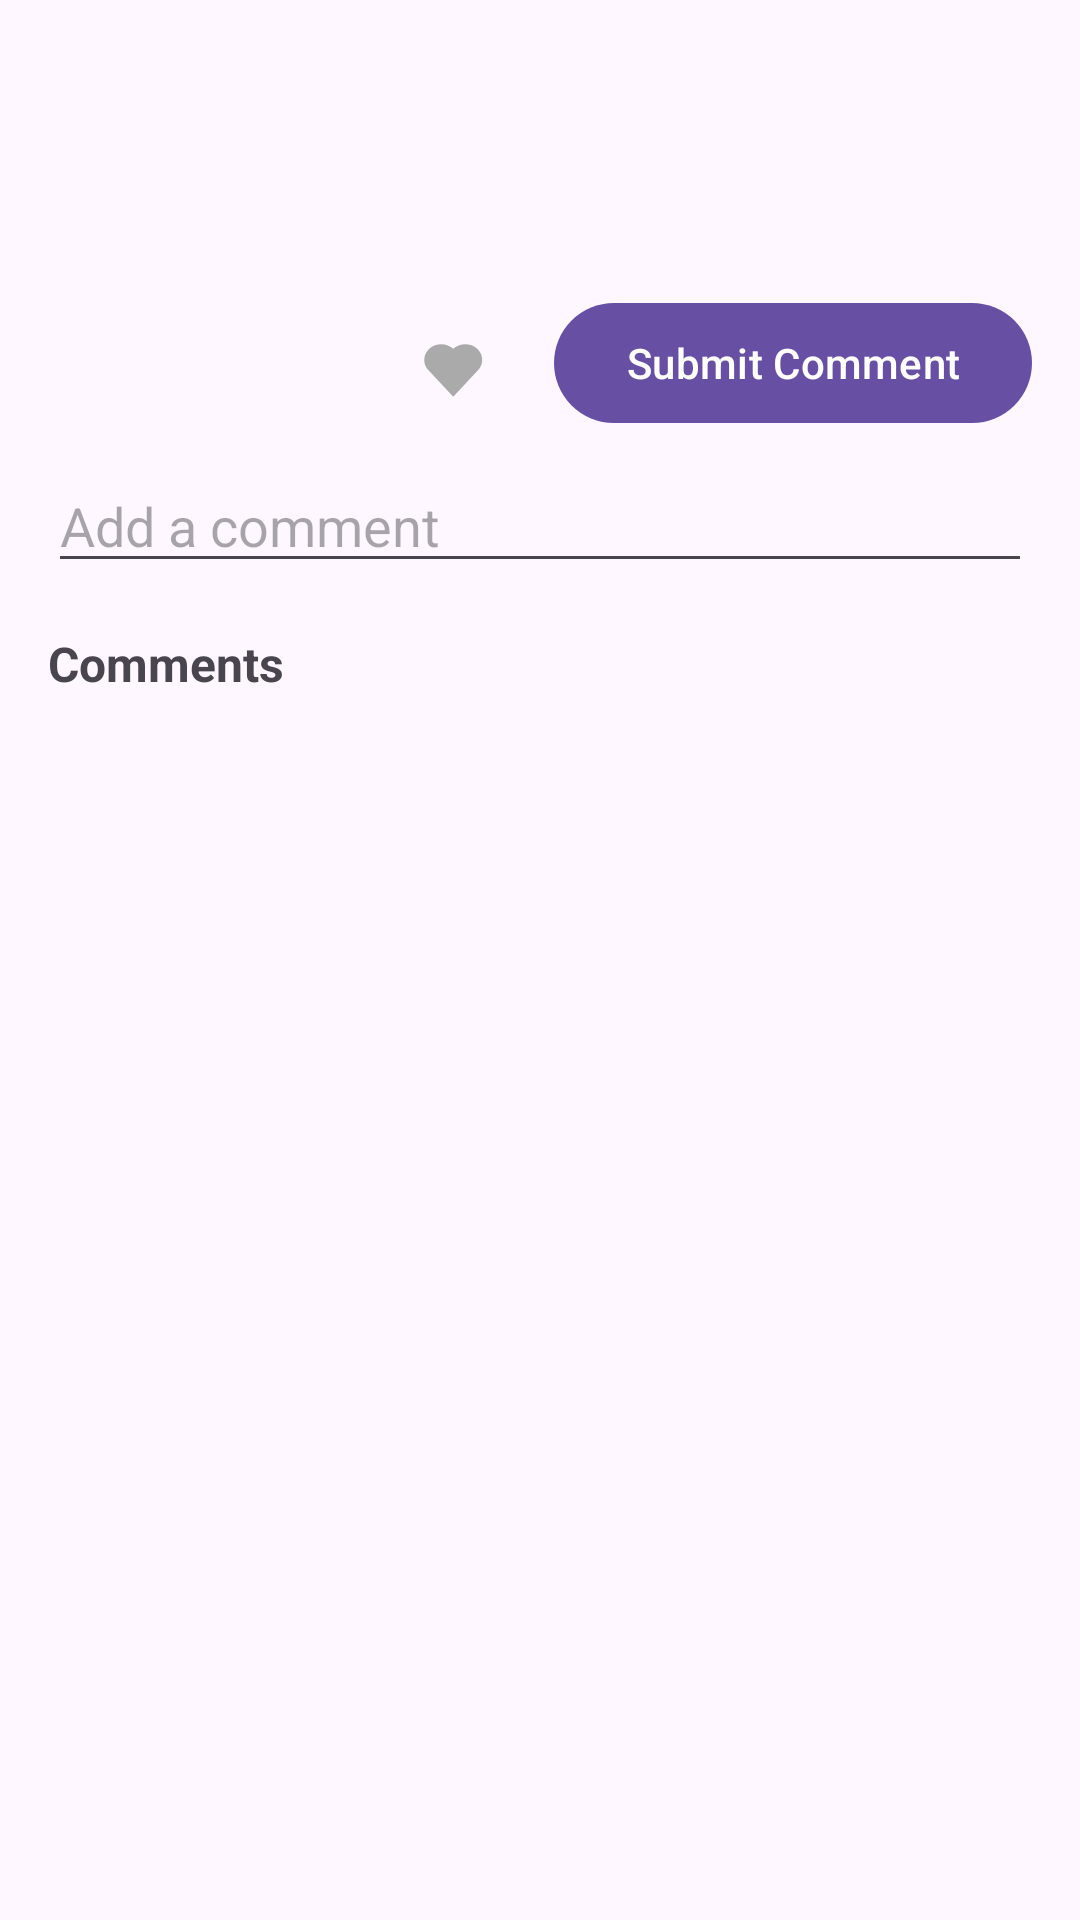

Icons on this 1080px x 1920px Android screen, each with its box as bbox=(x1, y1, x2, y2):
Like Button: bbox=(424, 344, 482, 397)
